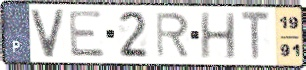2: (116, 10, 151, 60)
E: (67, 10, 107, 59)
H: (199, 11, 239, 61)
R: (154, 11, 191, 59)
T: (240, 10, 272, 63)
V: (29, 8, 67, 60)
